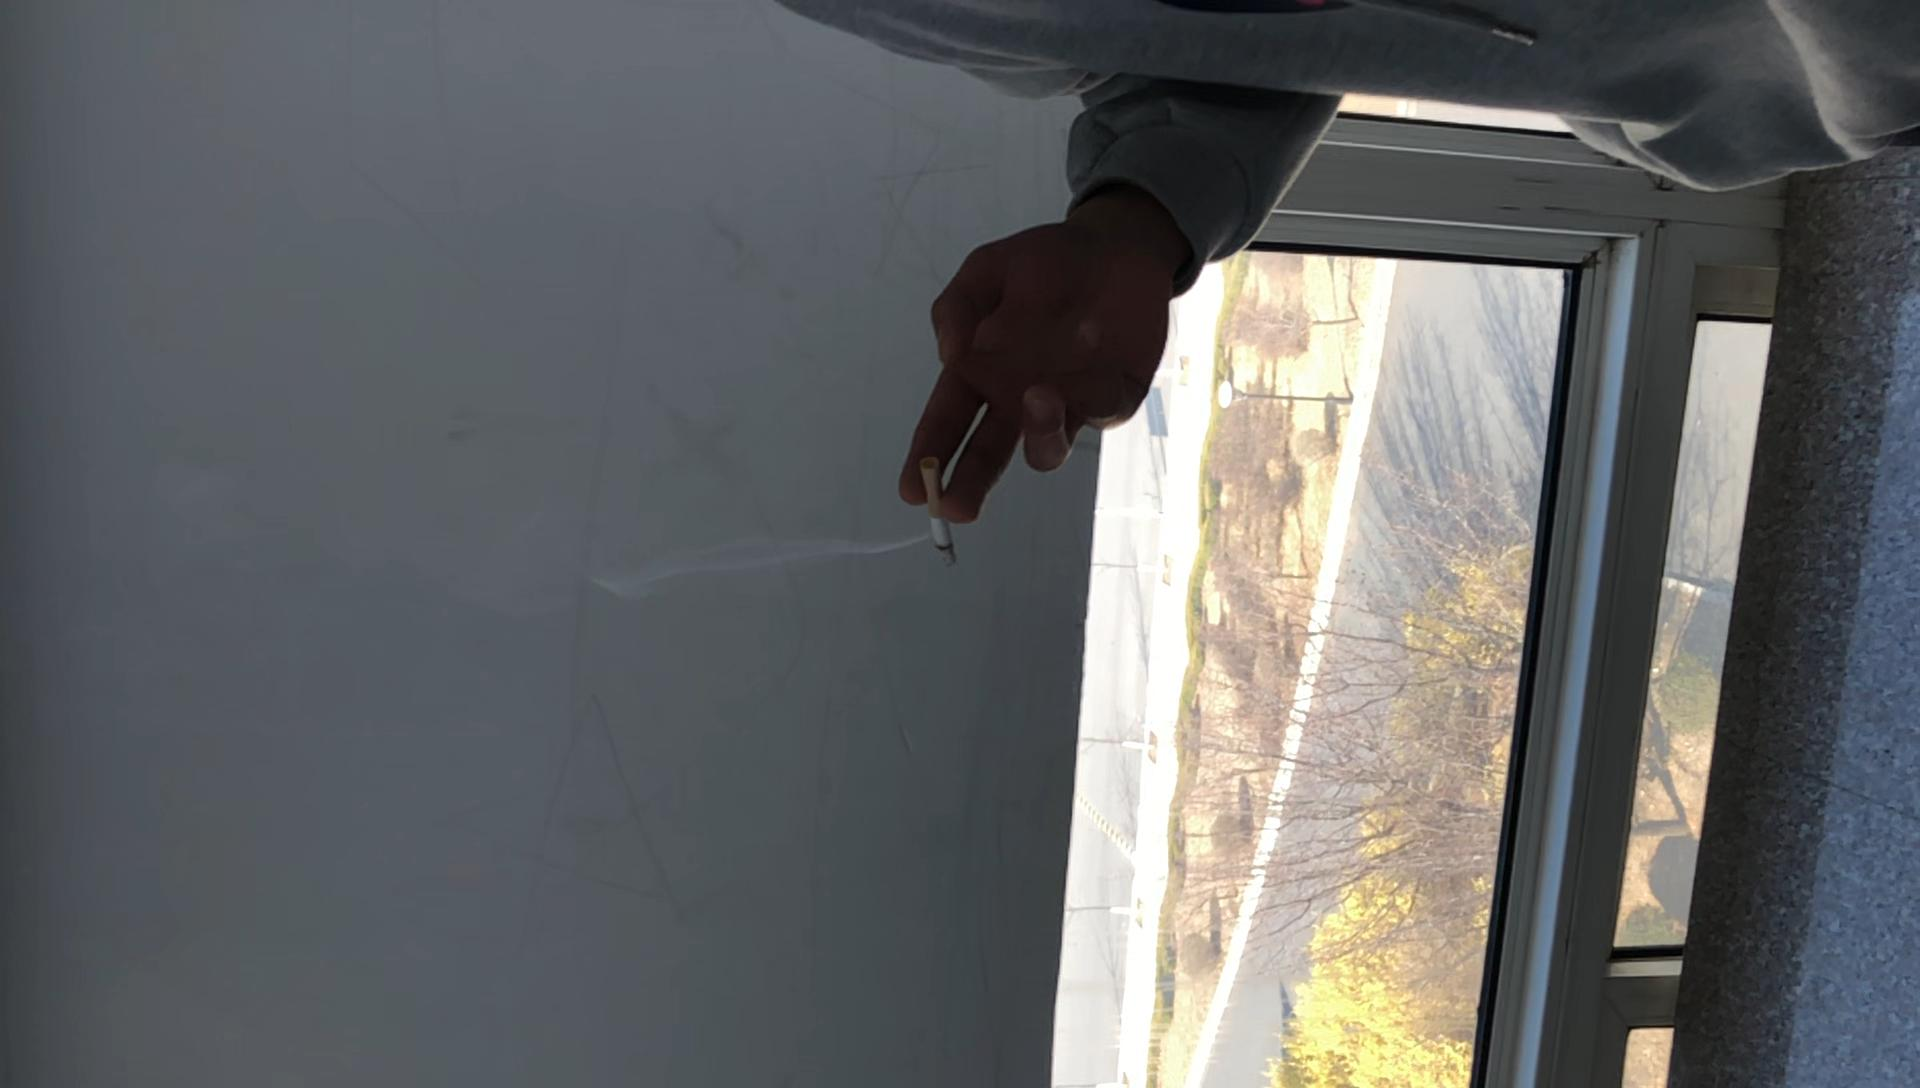yanwu: (582, 525, 932, 609)
